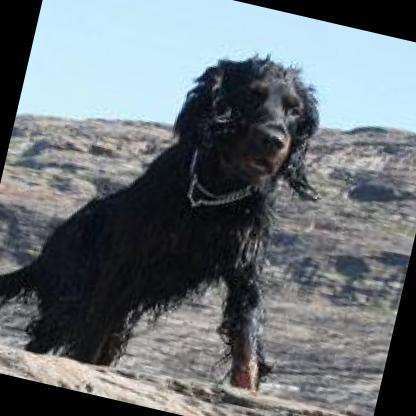Gordon_setter: (0, 0, 346, 397)
